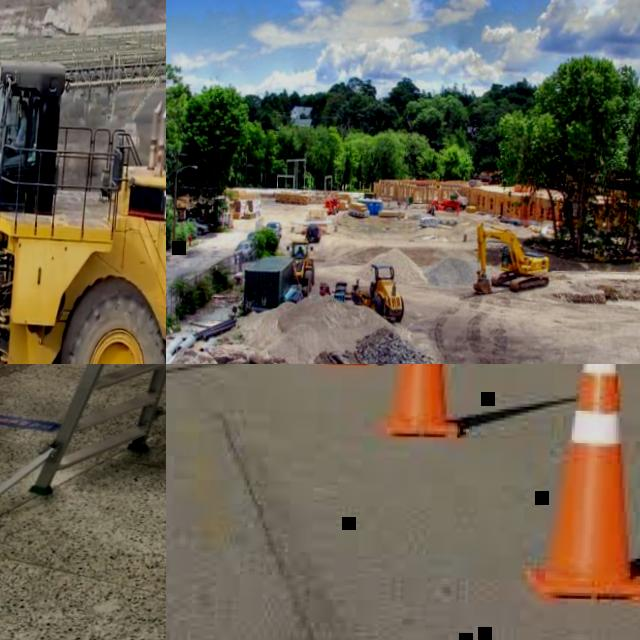NO-Hardhat: (20, 101, 28, 110)
NO-Mask: (19, 112, 24, 119)
NO-Safety Vest: (16, 125, 26, 146)
Person: (5, 100, 30, 156)
Safety Cone: (522, 364, 640, 607), (379, 364, 472, 435)
vehicle: (0, 46, 166, 364), (473, 221, 550, 299), (345, 262, 405, 326), (285, 239, 316, 297), (175, 217, 210, 235), (233, 238, 253, 261), (264, 221, 283, 240), (306, 224, 322, 243), (247, 230, 259, 242)
